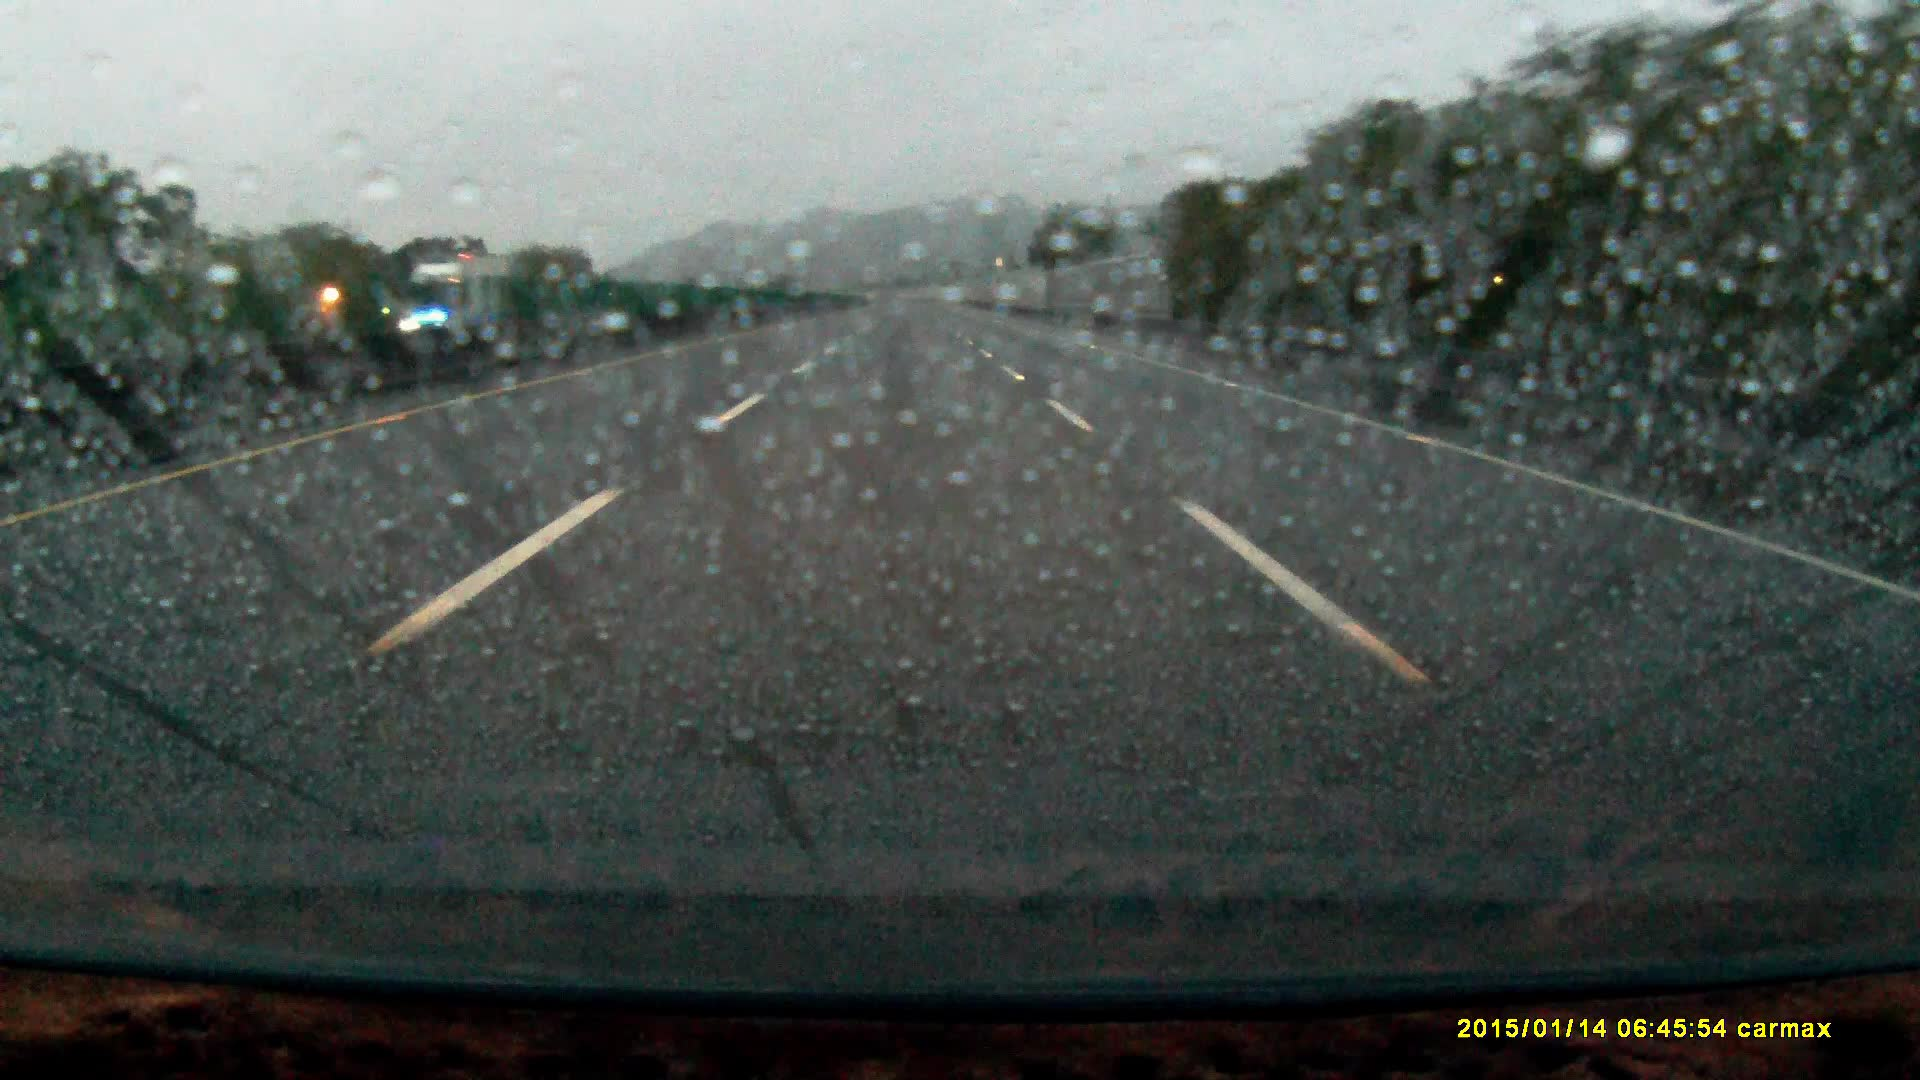vehicle: (396, 253, 512, 344)
